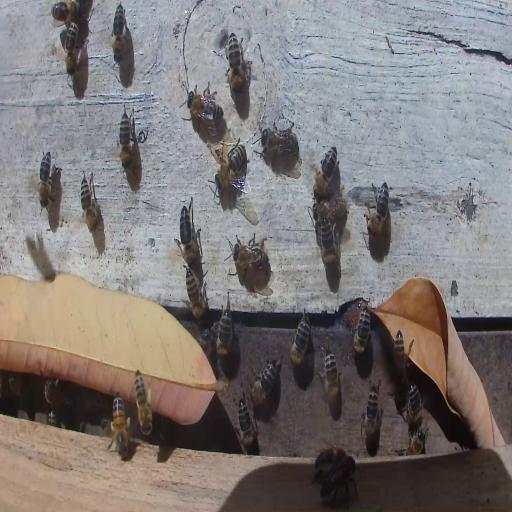nonpollenbee: (248, 350, 283, 409), (212, 142, 248, 196), (175, 198, 200, 268), (321, 453, 357, 501), (228, 236, 266, 279), (186, 88, 224, 129), (257, 124, 301, 159), (365, 180, 391, 237), (313, 440, 350, 480), (225, 36, 250, 92), (79, 172, 101, 234), (362, 381, 383, 443), (319, 216, 339, 281), (323, 347, 340, 420), (236, 397, 257, 454), (315, 147, 338, 199), (184, 268, 206, 320), (351, 304, 373, 355), (311, 198, 349, 227), (290, 312, 310, 367), (38, 150, 55, 210), (118, 106, 133, 172), (62, 22, 78, 76), (112, 3, 126, 63), (50, 2, 84, 26), (218, 301, 232, 357), (406, 382, 422, 429), (406, 424, 427, 454), (394, 330, 406, 378), (44, 378, 58, 410), (47, 409, 61, 426)
pollenbee: (134, 365, 154, 438), (110, 391, 131, 459)
